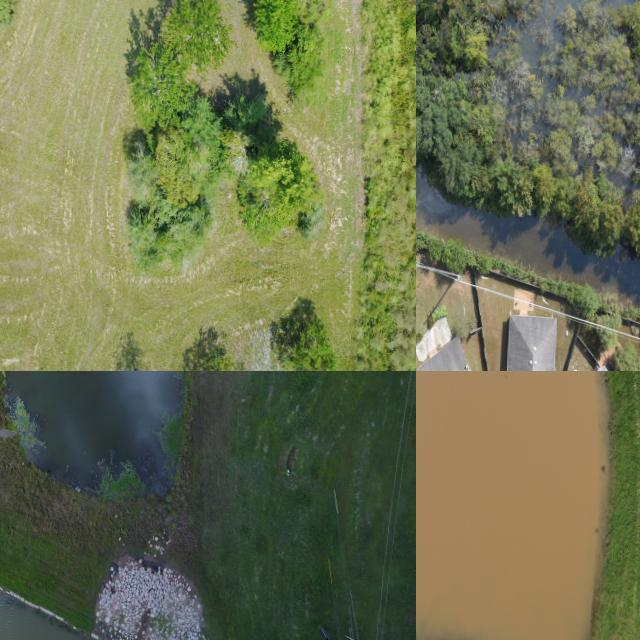fire: (416, 371, 607, 640), (5, 371, 181, 491), (518, 0, 579, 93)
